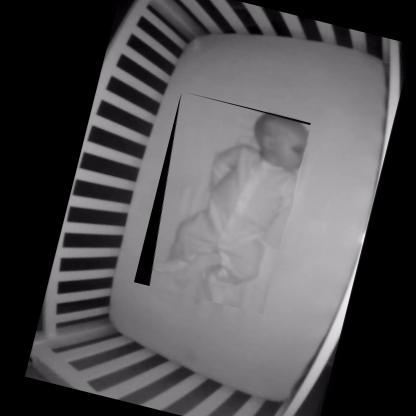baby: (156, 114, 308, 302)
